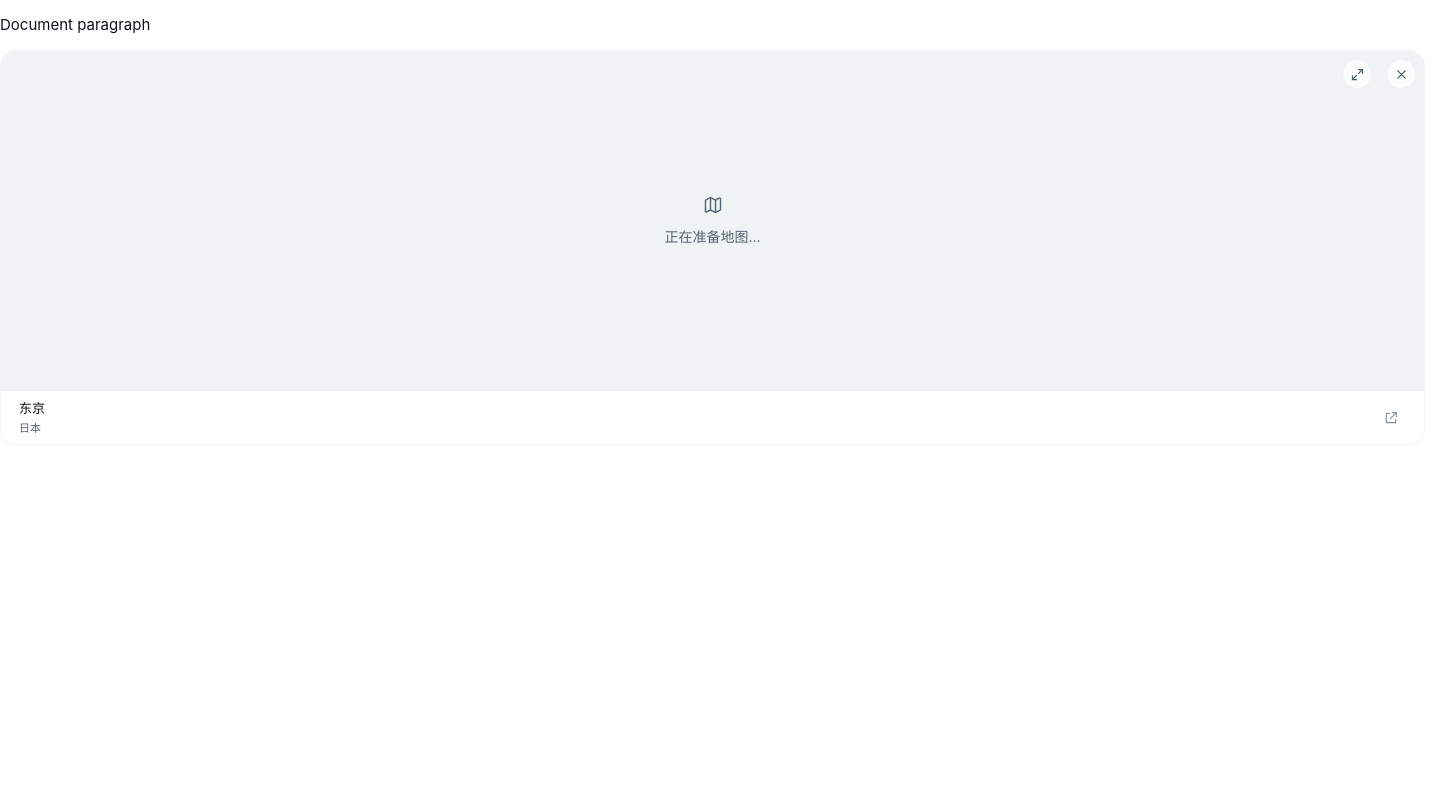
Test case: keeps drag announcements outside editable documents during modal isolation
Click the button named "展开地图". click: click(1357, 74)
box: [1343,60,1371,88]
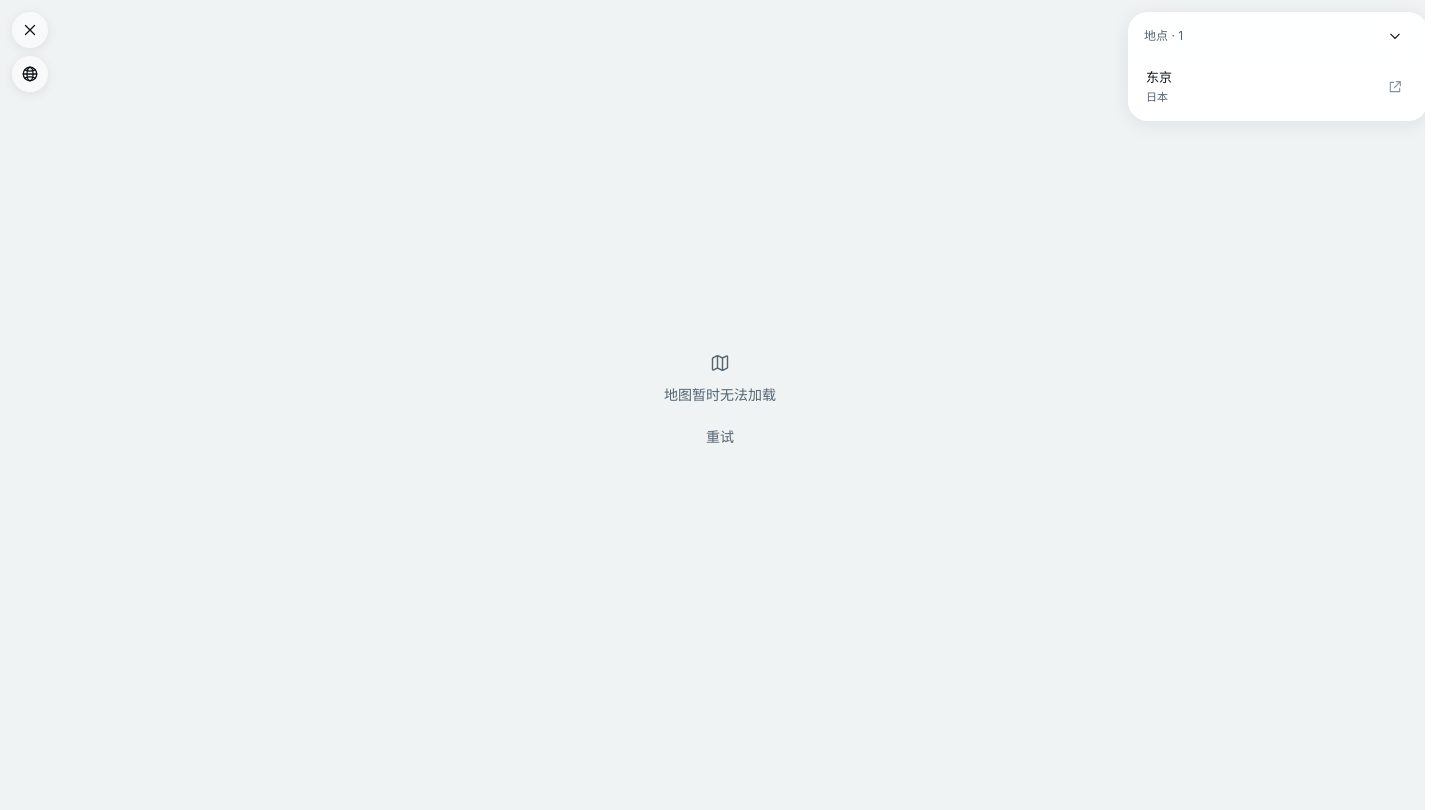
Now the dialog "地图" is shown
